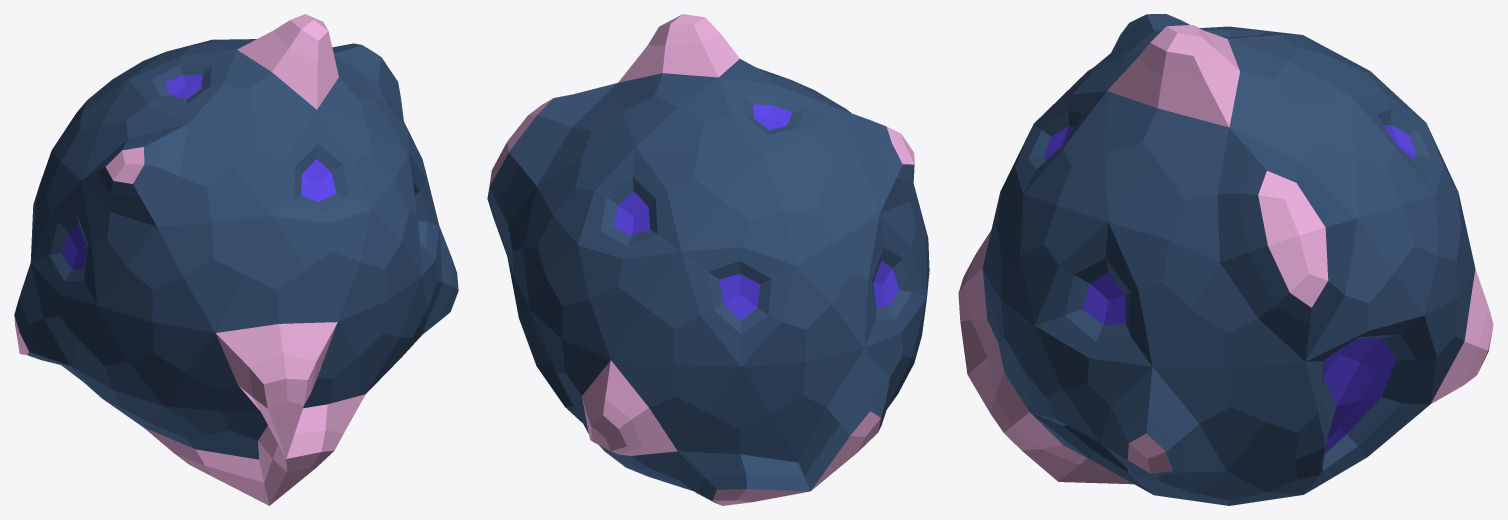
Rendered from Planet3Evo4.glb.
3 renders of one model, left to right at view 1: azimuth 30°, elevation 25°; view 2: azimuth 150°, elevation 25°; view 3: azimuth 270°, elevation 25°, orthographic. The views are drawn at different scales.
Visible parts, largest first — view 1: Icosphere.071; view 2: Icosphere.071; view 3: Icosphere.071.
Part boxes in pixels (x1,y1,x2,y2): Icosphere.071: (14,14,458,505); Icosphere.071: (487,14,929,505); Icosphere.071: (958,14,1493,505).
Bounding box in the file's own units: 1.85 × 2 × 1.93.
